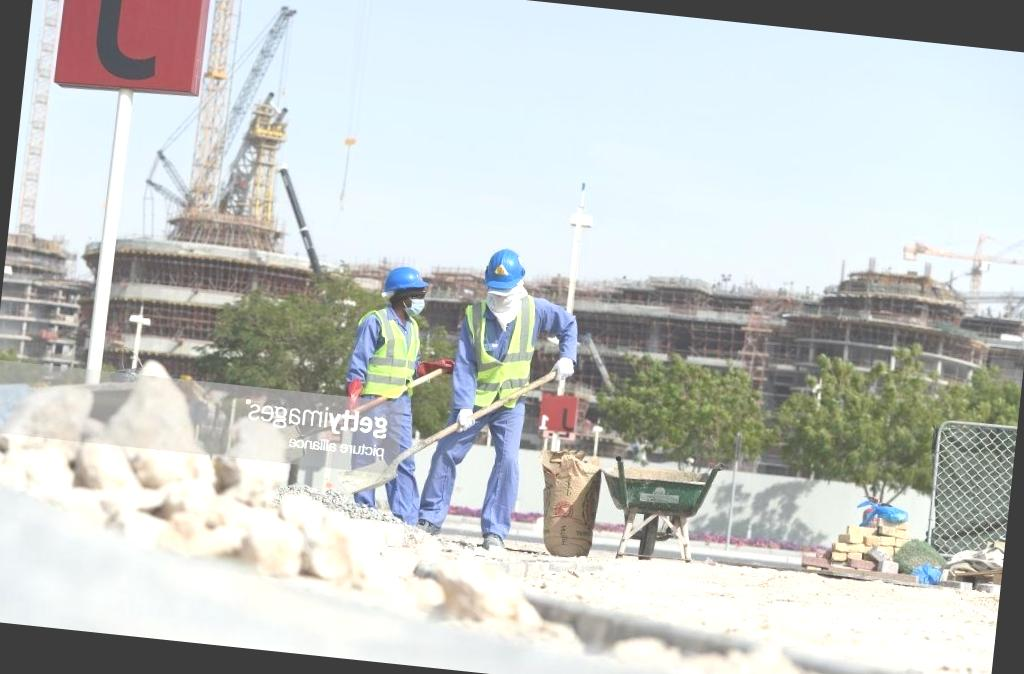helmet: (481, 248, 528, 293), (384, 268, 420, 292)
person: (414, 236, 555, 544), (330, 260, 436, 474)
